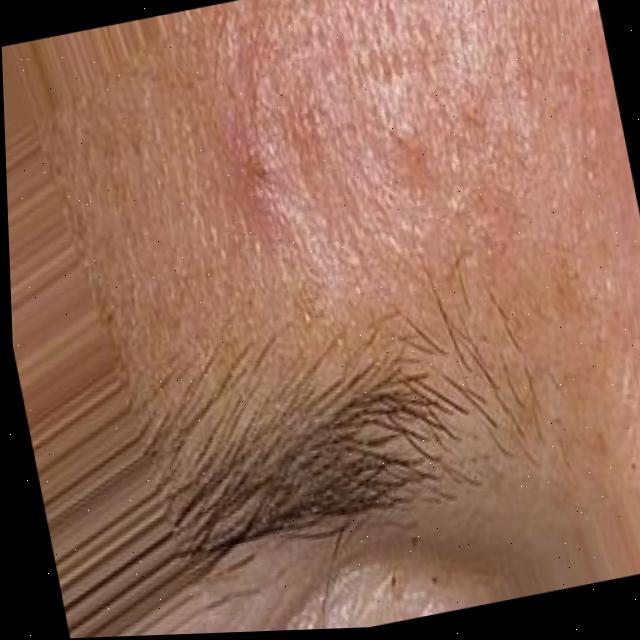Rosacea: (224, 101, 321, 234)
